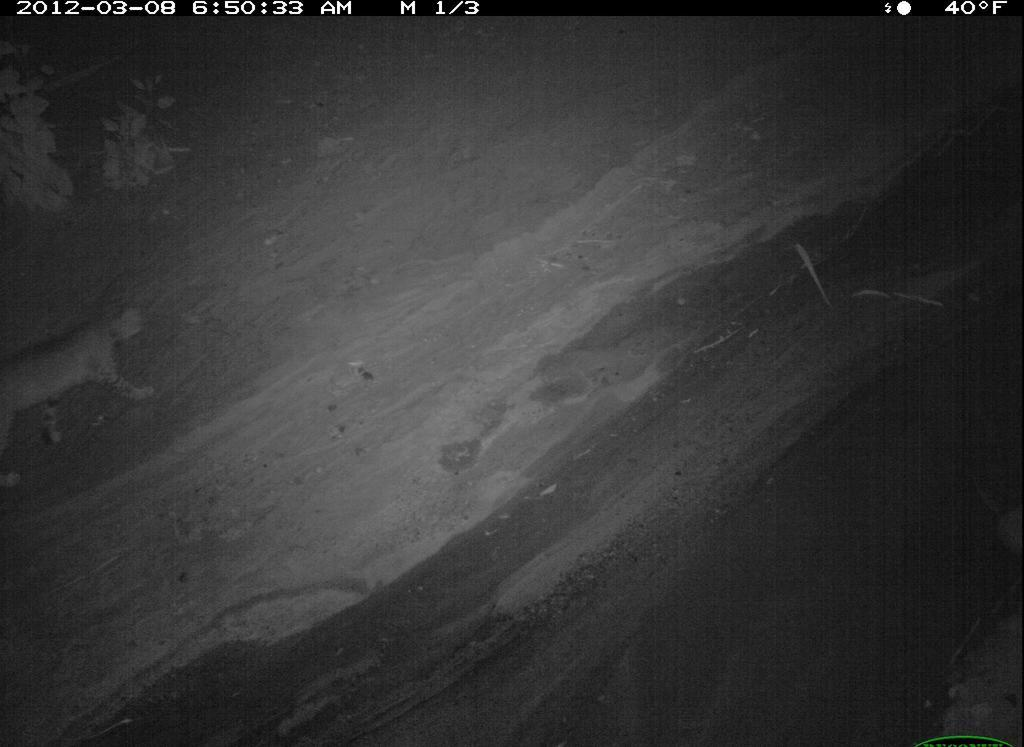bobcat: (3, 551, 324, 747)
